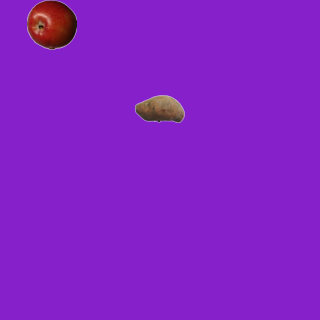Apple Braeburn: (26, 0, 76, 49)
Potato Sweet: (134, 83, 184, 133)
